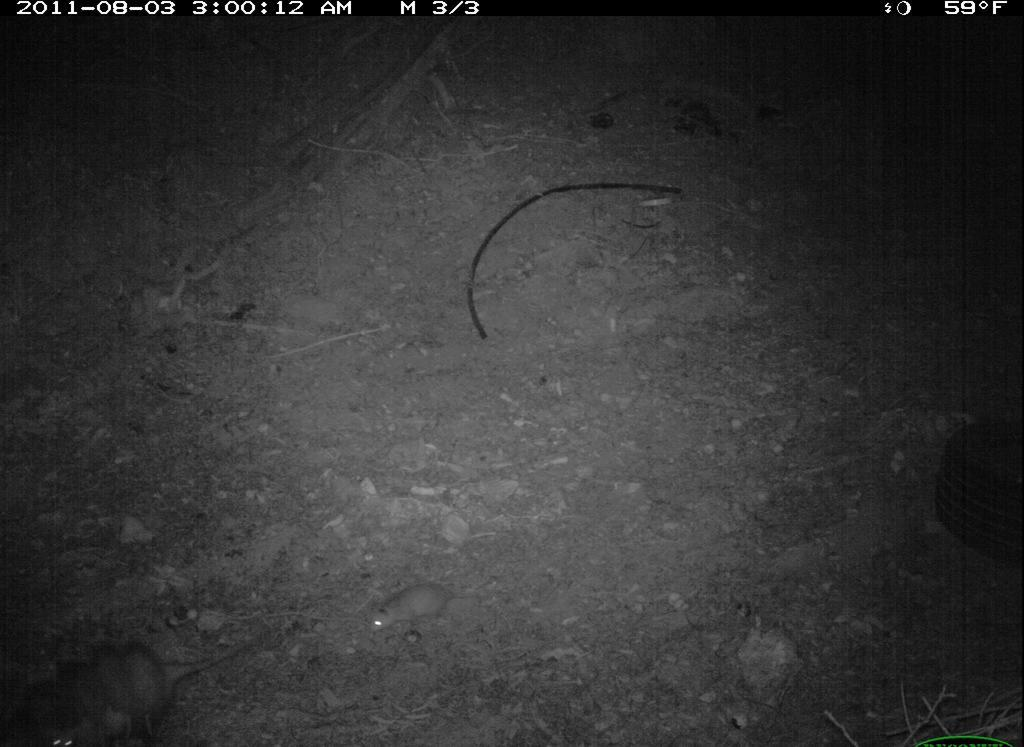opossum: (8, 628, 273, 747), (364, 578, 492, 637), (55, 652, 115, 747), (119, 637, 173, 741), (91, 643, 141, 746), (39, 688, 87, 747)
